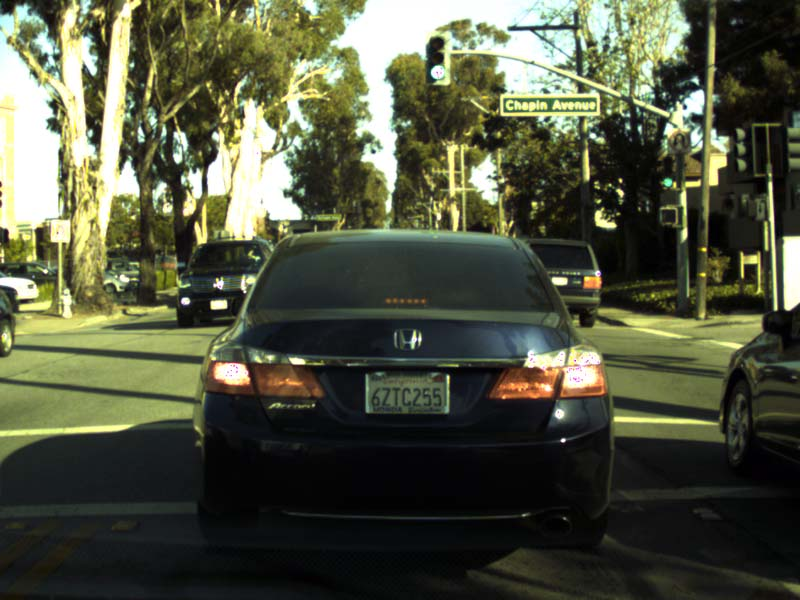Green: (428, 35, 447, 81), (662, 157, 674, 188)
